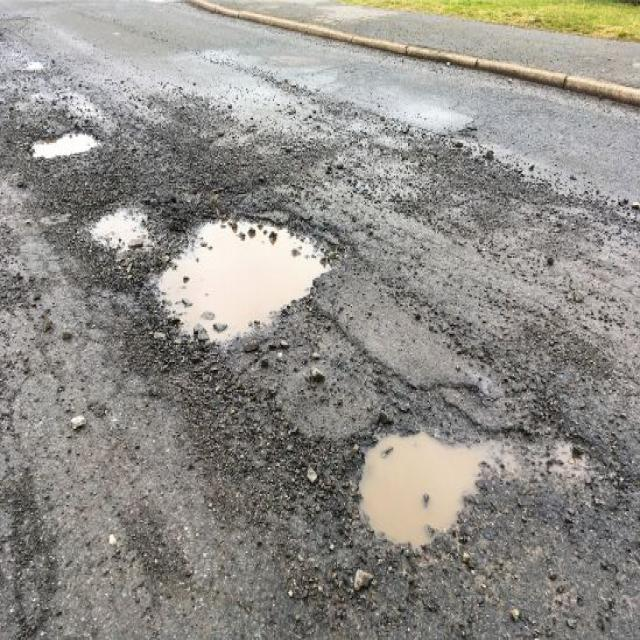pothole: (338, 406, 532, 554), (146, 212, 348, 346), (78, 186, 154, 262), (18, 121, 104, 157)
